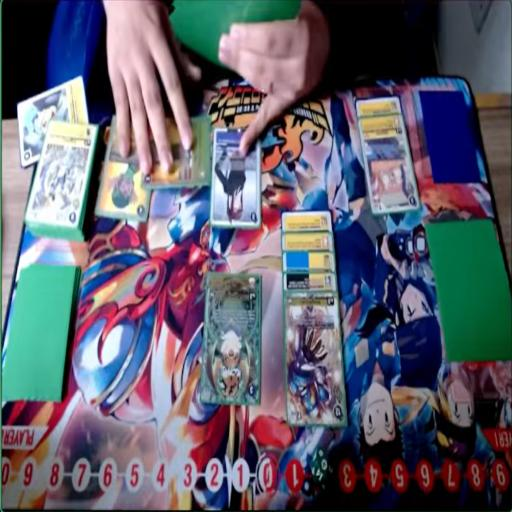card: (25, 119, 98, 240), (283, 292, 346, 426), (199, 273, 262, 405), (358, 115, 422, 215), (17, 77, 88, 167), (95, 125, 150, 221), (210, 129, 261, 229), (143, 115, 210, 188), (353, 93, 400, 120), (107, 125, 138, 162), (282, 211, 331, 232), (282, 231, 332, 250), (284, 272, 335, 290), (283, 252, 334, 270)
